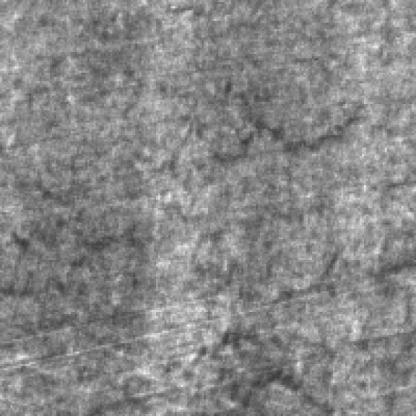crazing: (147, 56, 392, 179), (0, 177, 142, 383), (177, 278, 395, 410)
